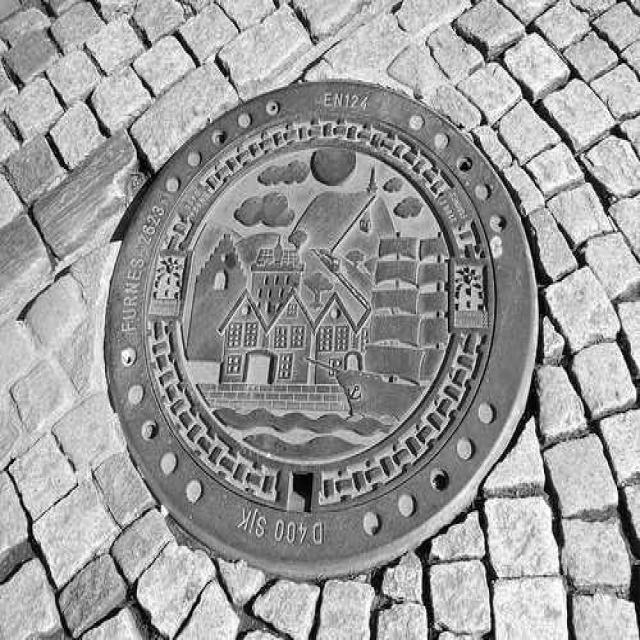manhole: (105, 82, 536, 579)
